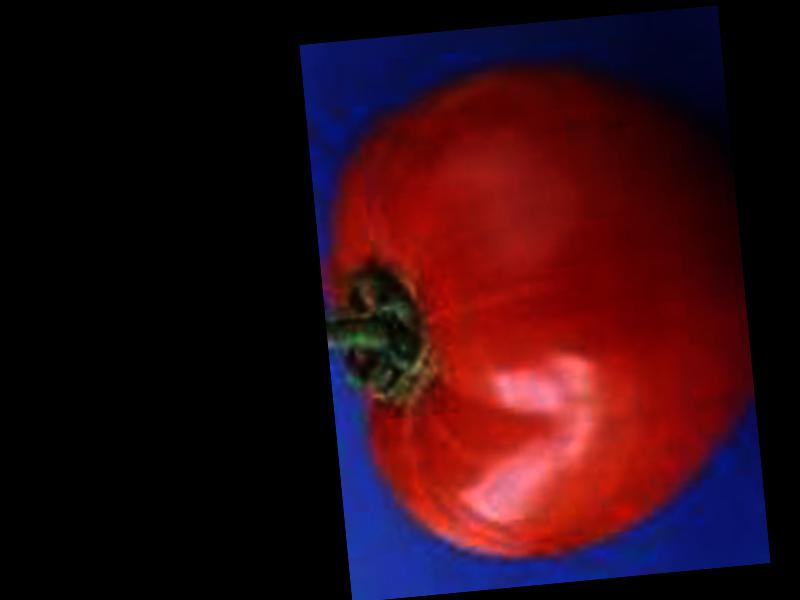Tomato: (306, 44, 765, 574)
